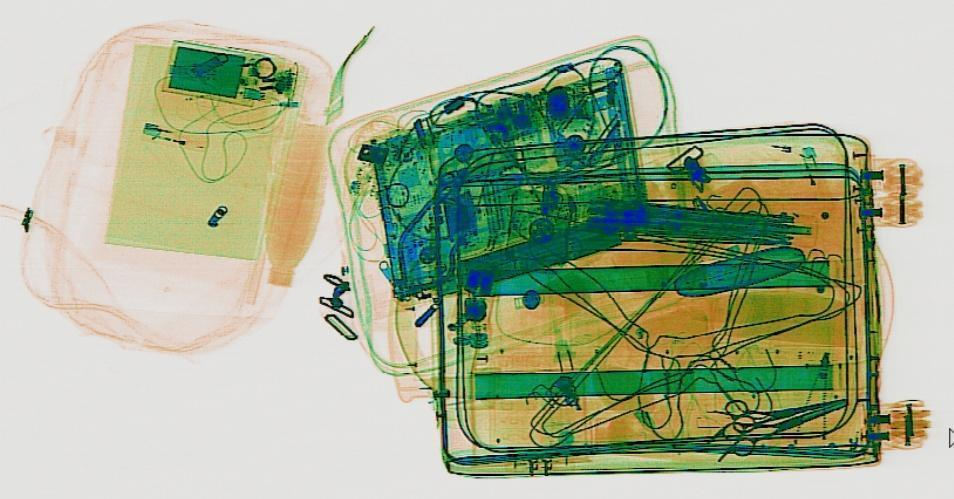Scissors: (698, 390, 863, 458), (713, 380, 855, 432)
